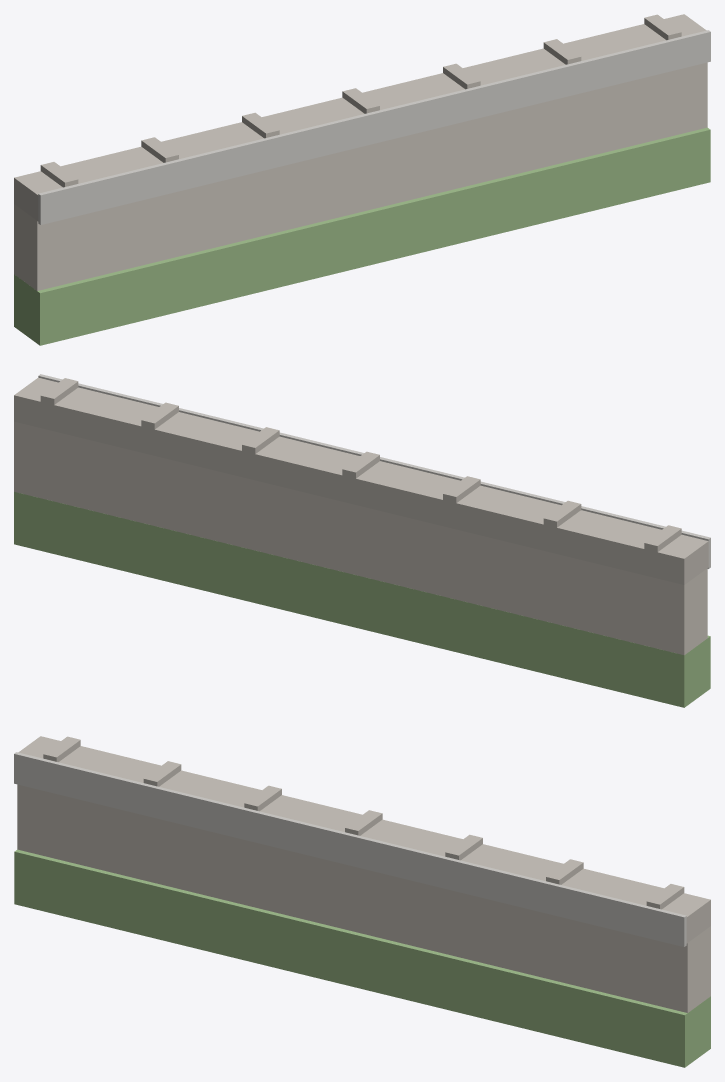
File: r-15-canal-towpath-stone-wall.glb
3 views of the same model, one above another, from view 1: azimuth 30°, elevation 25°; view 2: azimuth 150°, elevation 25°; view 3: azimuth 330°, elevation 25° (orthographic).
Parts seen in each view (by area): view 1: towpath, verge, coping, wall; view 2: towpath, verge, wall, coping; view 3: towpath, verge, coping, wall.
Part boxes in pixels (x1=…): towpath: x1=14, y1=62, x2=707, y2=290; verge: x1=14, y1=127, x2=710, y2=345; coping: x1=38, y1=30, x2=710, y2=224; wall: x1=14, y1=14, x2=706, y2=221; towpath: x1=14, y1=421, x2=707, y2=655; verge: x1=14, y1=492, x2=710, y2=707; wall: x1=14, y1=377, x2=708, y2=584; coping: x1=38, y1=374, x2=710, y2=568; towpath: x1=17, y1=784, x2=710, y2=1012; verge: x1=14, y1=849, x2=710, y2=1067; coping: x1=14, y1=752, x2=686, y2=946; wall: x1=18, y1=736, x2=710, y2=943.
Bounding box in the file's own units: 40000 × 8849 × 2750.
